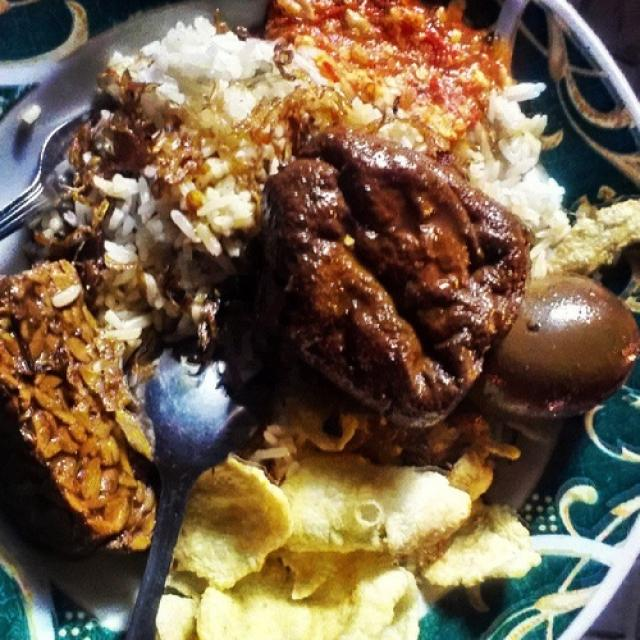米饭主食: (23, 21, 620, 636)
